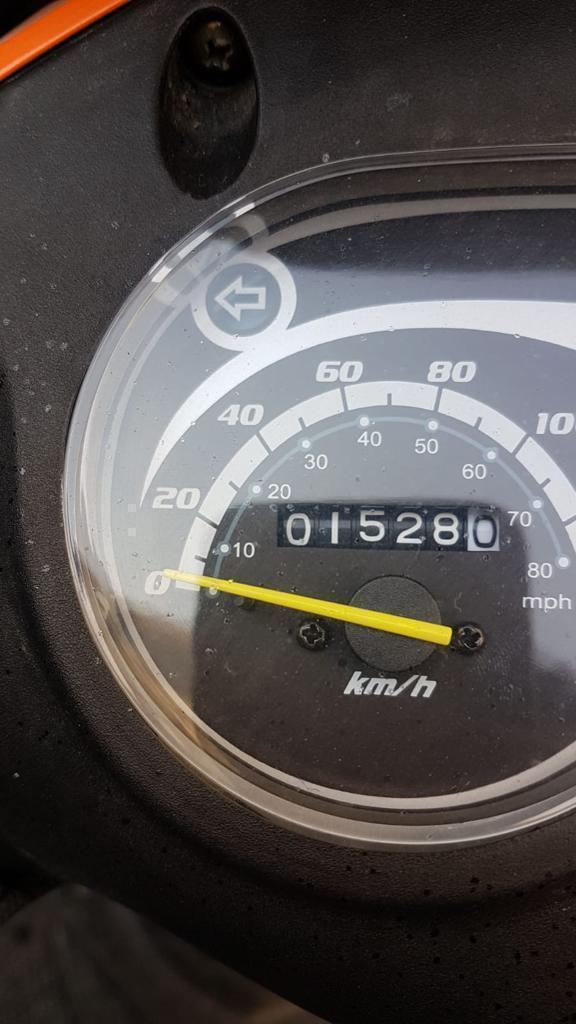0: (282, 509, 312, 547), (471, 512, 500, 550)
1: (327, 506, 344, 547)
2: (394, 509, 425, 546)
5: (356, 506, 387, 543)
8: (430, 510, 461, 547)
odometer: (271, 497, 505, 557)
